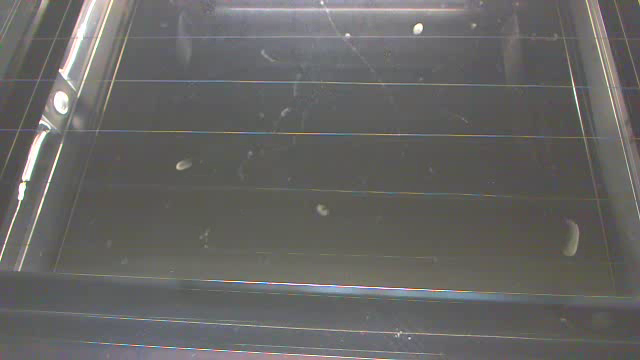alpha: (557, 208, 583, 271), (168, 153, 203, 175), (408, 15, 427, 40), (312, 198, 333, 220)
